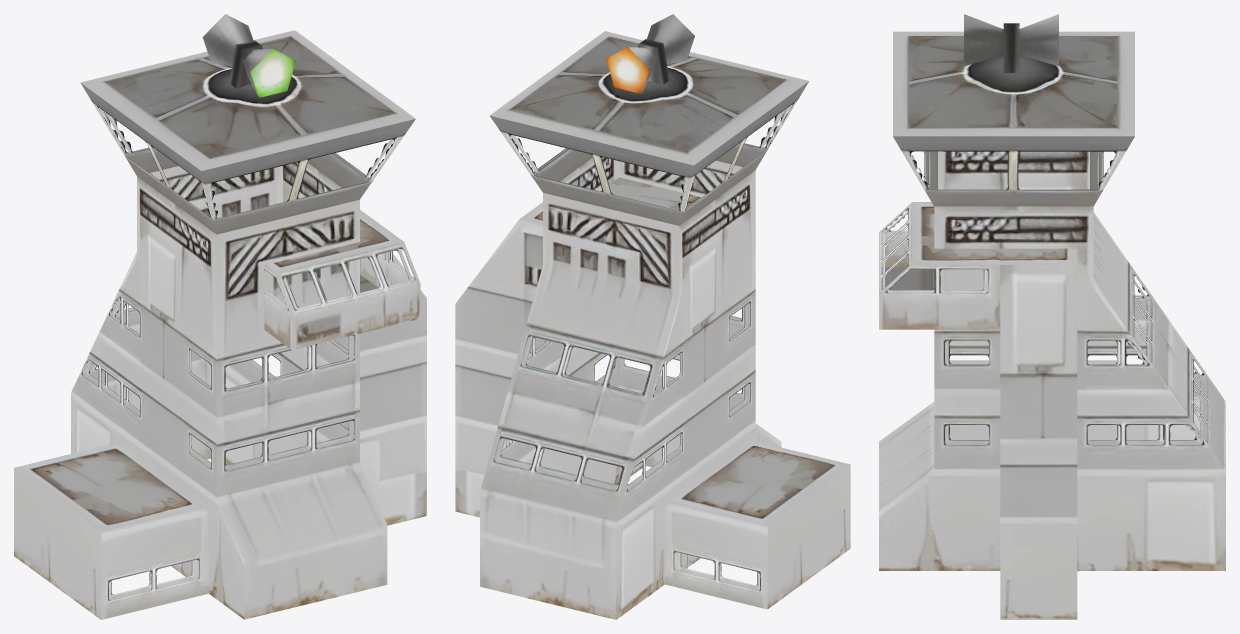
File: trafcon_hdtex.glb
The picture shows the model from 3 angles, left to right: view 1: azimuth 30°, elevation 25°; view 2: azimuth 150°, elevation 25°; view 3: azimuth 270°, elevation 25°; orthographic projection. The views are drawn at different scales.
Parts seen in each view (by area): view 1: TrafconMain, LitWin_TrafCon, RotatyBit; view 2: TrafconMain, LitWin_TrafCon, RotatyBit; view 3: TrafconMain, LitWin_TrafCon, RotatyBit.
Part boxes in pixels (left/top/right/bottom): TrafconMain: left=14, top=30, right=426, bottom=619; LitWin_TrafCon: left=85, top=111, right=413, bottom=600; RotatyBit: left=202, top=14, right=295, bottom=97; TrafconMain: left=455, top=31, right=850, bottom=619; LitWin_TrafCon: left=494, top=108, right=786, bottom=590; RotatyBit: left=606, top=14, right=694, bottom=93; TrafconMain: left=879, top=31, right=1225, bottom=619; LitWin_TrafCon: left=882, top=151, right=1207, bottom=444; RotatyBit: left=964, top=14, right=1058, bottom=72.
Size of the model in its own units: 23.25 by 33.08 by 19.91.
1 material, 1 textured.
